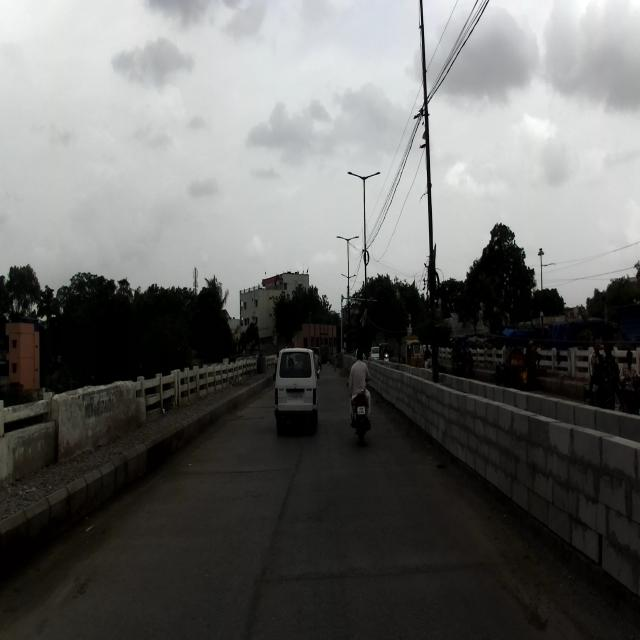car: (274, 346, 318, 433)
motorcycle: (345, 374, 371, 448)
